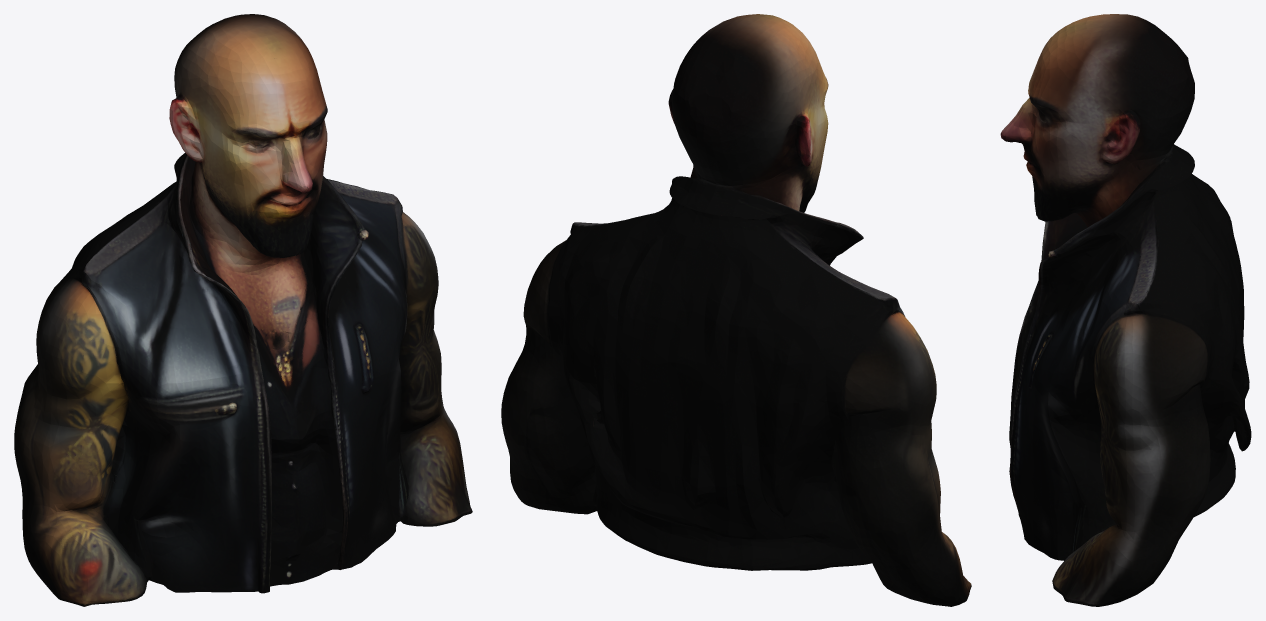
Rendered from ori.glb.
The picture shows the model from 3 angles, left to right: view 1: azimuth 30°, elevation 25°; view 2: azimuth 150°, elevation 25°; view 3: azimuth 270°, elevation 25°; orthographic projection. The views are drawn at different scales.
Parts seen in each view (by area): view 1: world; view 2: world; view 3: world.
Part boxes in pixels (x1,y1,x2,y2): world: (14, 14, 472, 606); world: (501, 14, 971, 606); world: (1000, 14, 1251, 606).
Size of the model in its own units: 0.8591 by 1 by 0.462.
1 material, 1 textured.
